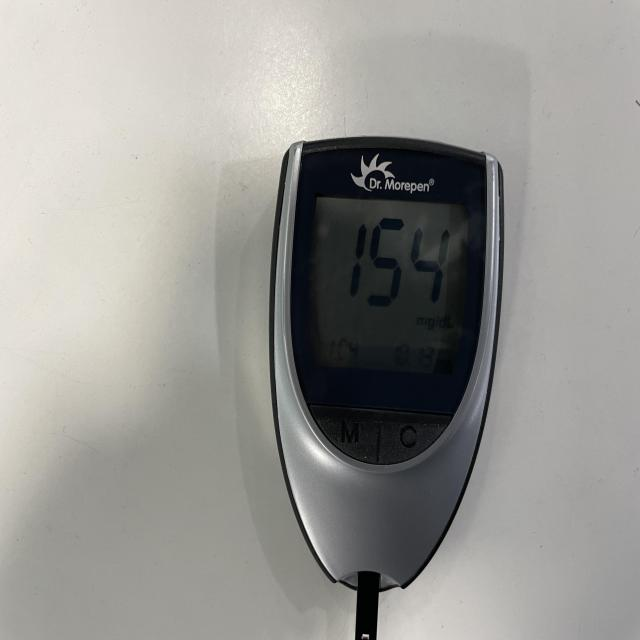gluco: (266, 137, 508, 640)
